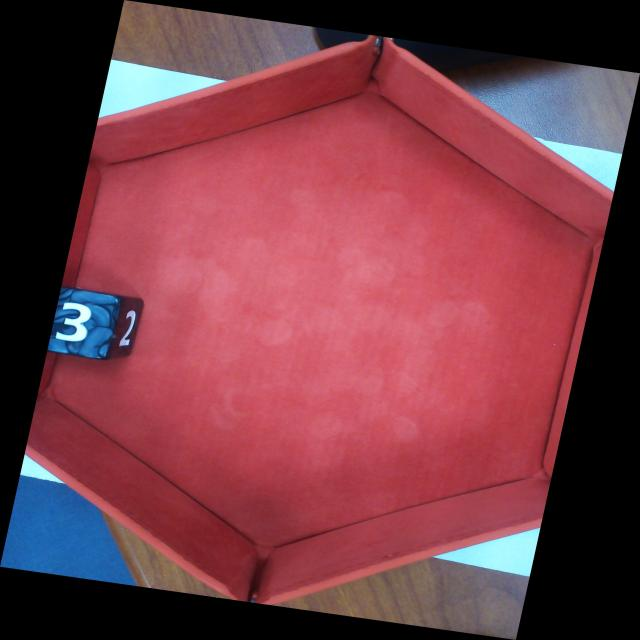dice: (47, 285, 121, 363)
